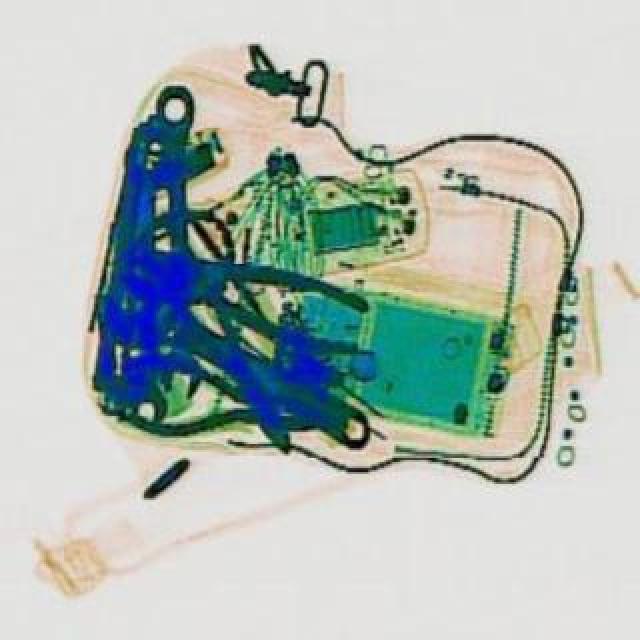scissors: (84, 256, 390, 466), (152, 82, 200, 396), (122, 120, 166, 420)
wrench: (134, 224, 374, 360)
